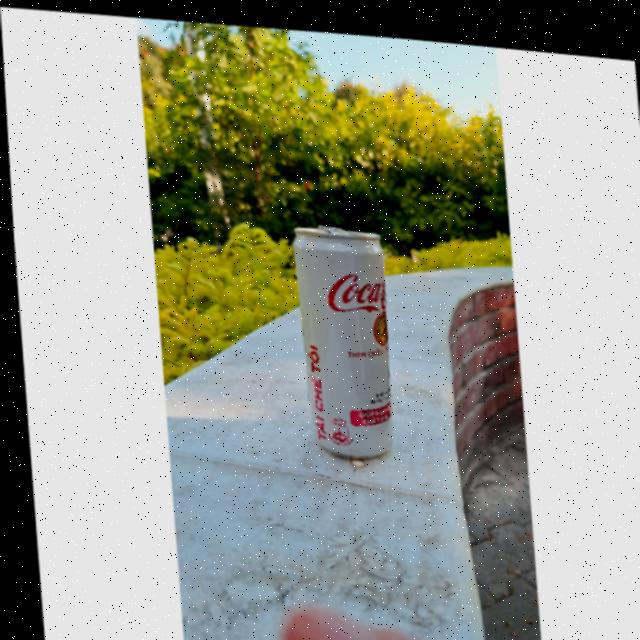Coca Cola Plus: (290, 217, 399, 455)
